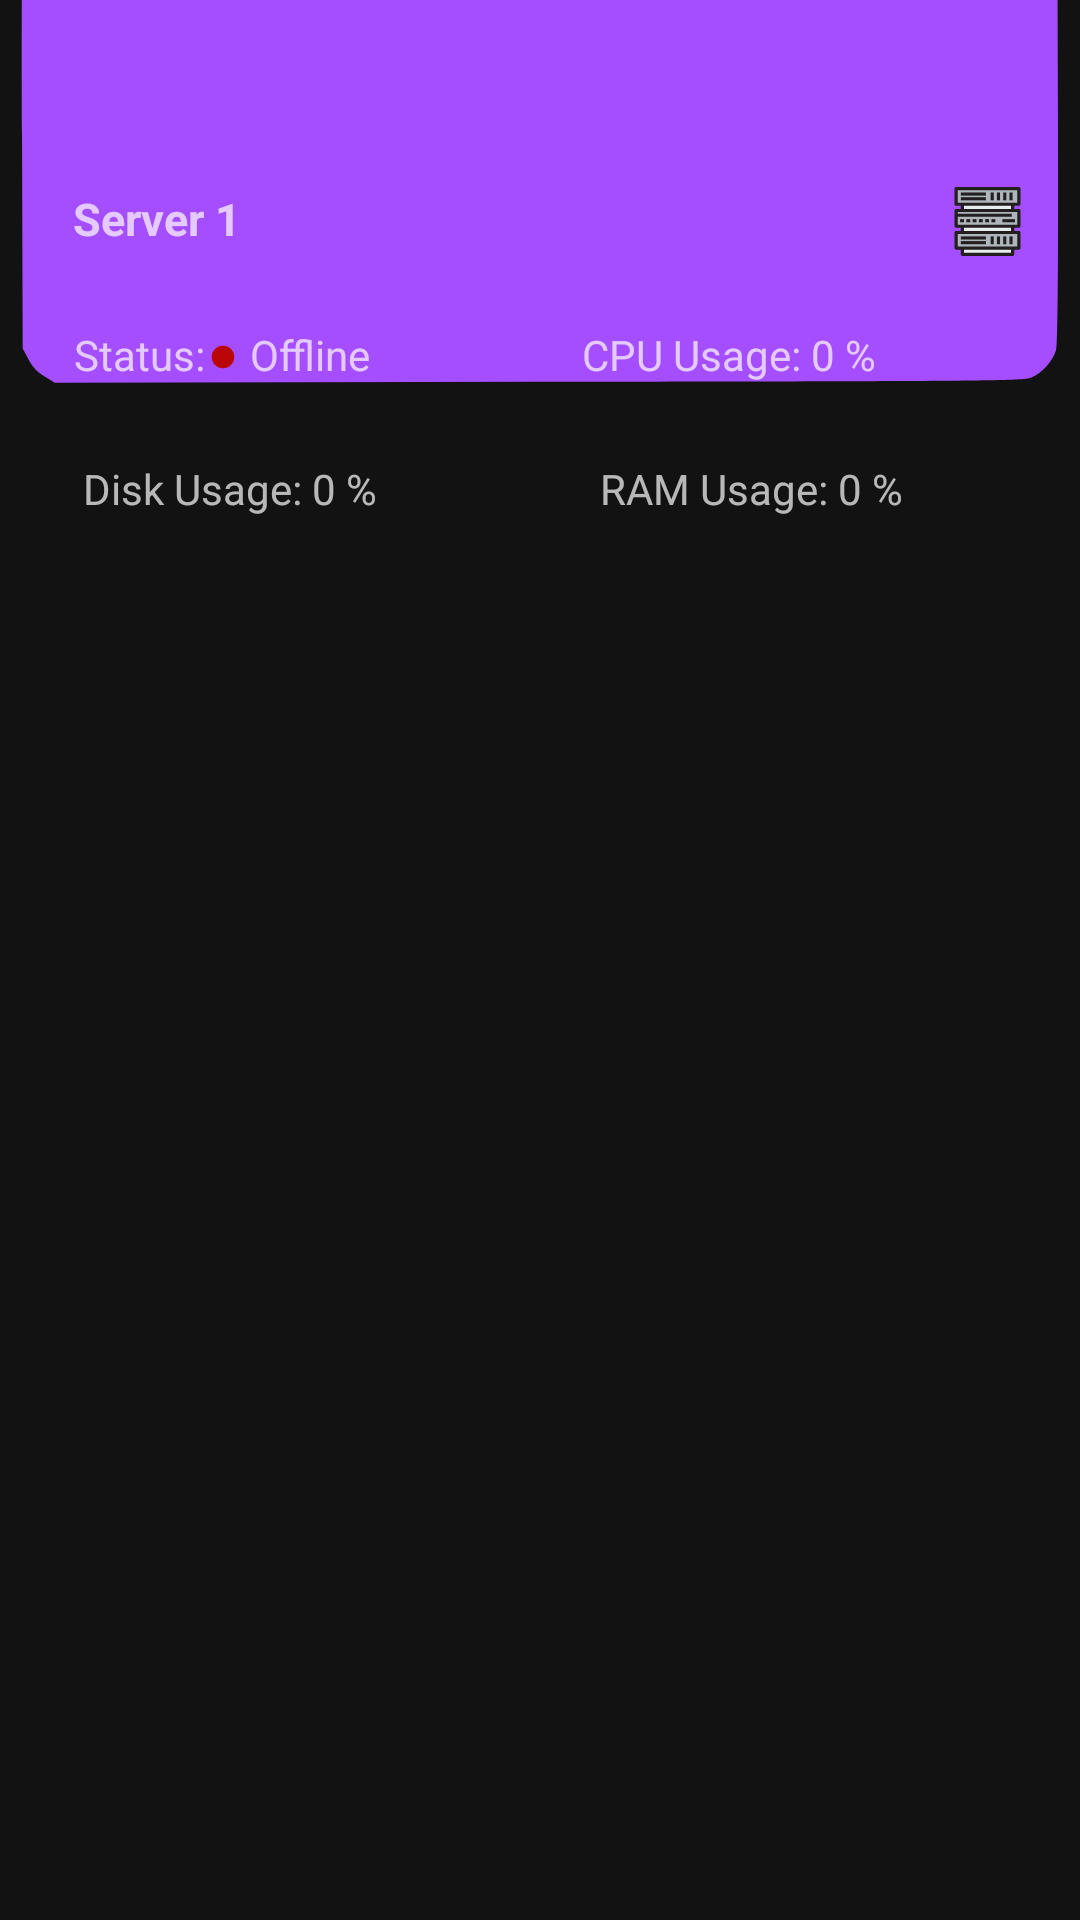

Where to tap for icons on this 1080 x 1920 app screen, as point (x, y):
serv: point (987, 221)
